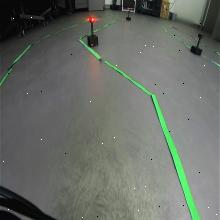red: (89, 16, 95, 24)
